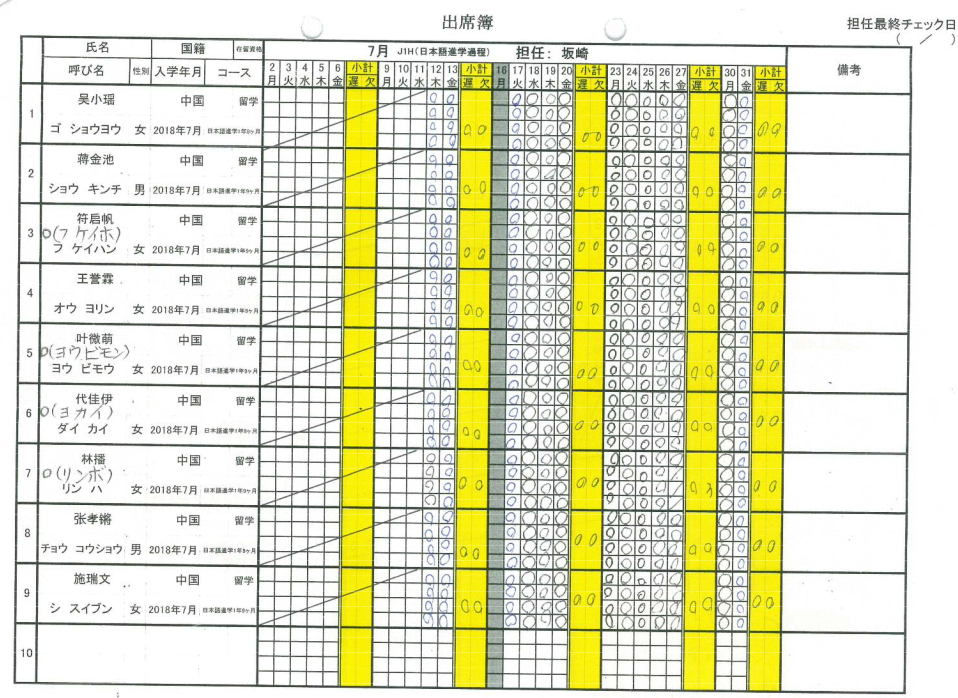/: (668, 466, 685, 482), (668, 496, 685, 511), (668, 482, 684, 497)
